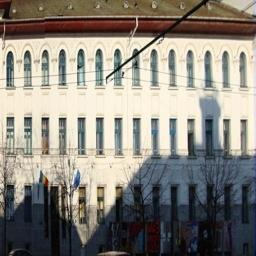building: (0, 0, 256, 228)
